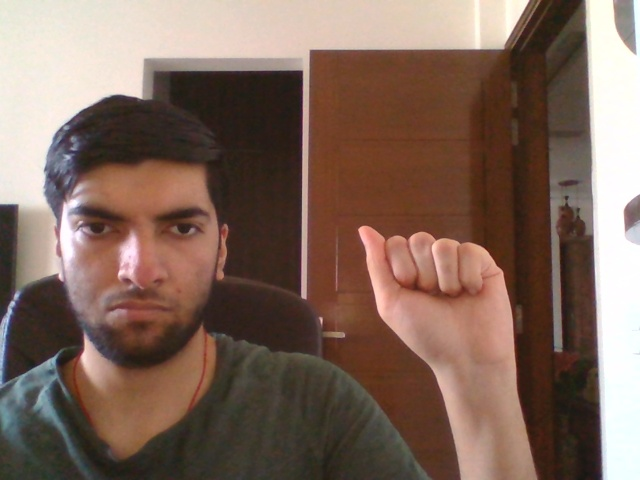LetterA: (357, 223, 518, 377)
